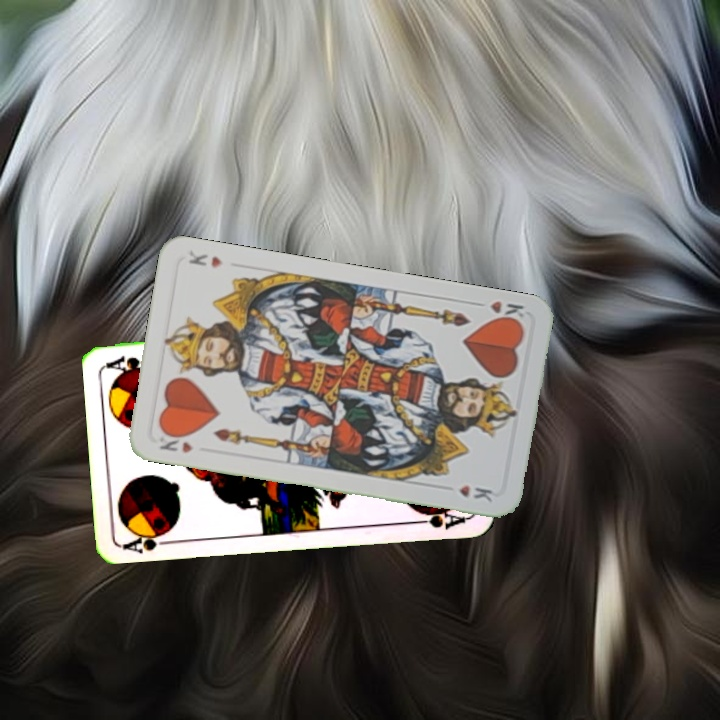HK: (469, 296, 527, 327), (155, 428, 196, 455)
SA: (120, 524, 179, 554)
